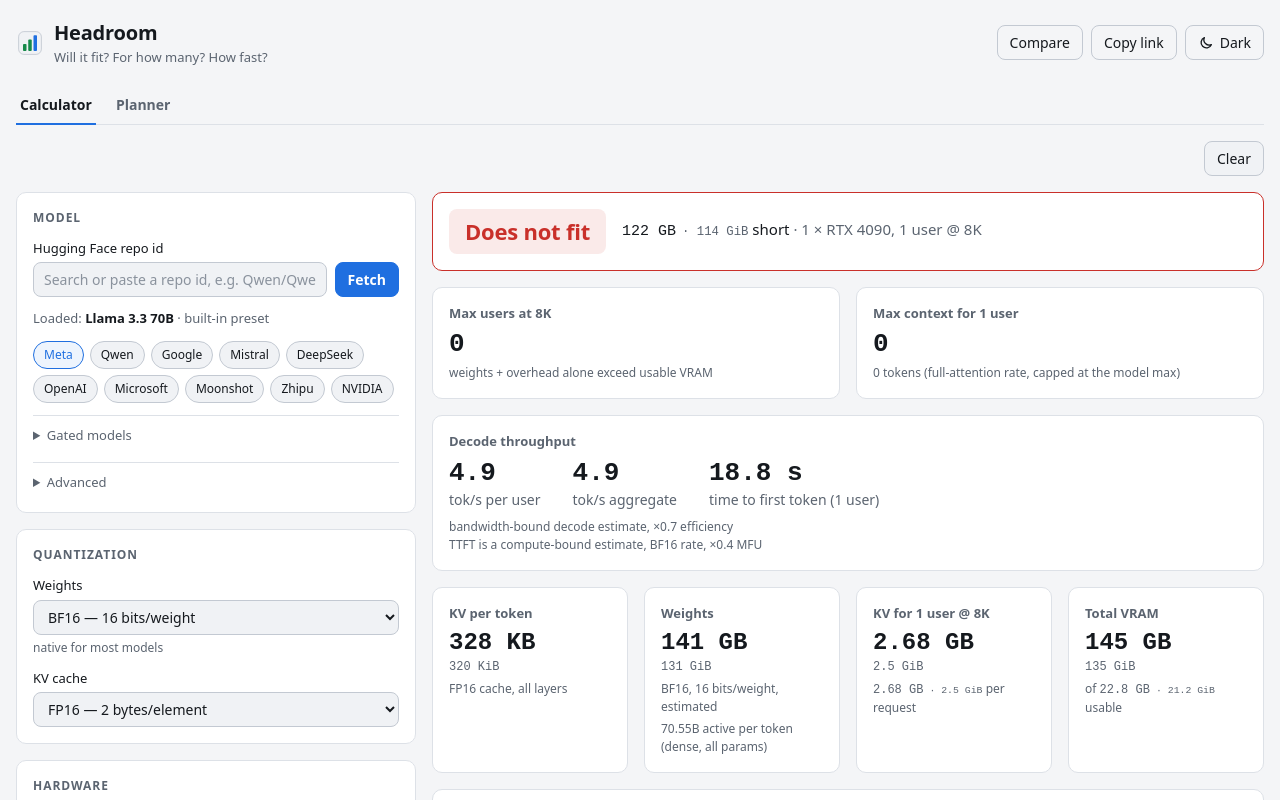
Test: App › fetches a model from Hugging Face (200)
In the dropdown labelled "Hugging Face repo id": (180, 280) [33,262,327,297], type "Qwen/Qwen2.5-7B-Instruct"
Then press Enter
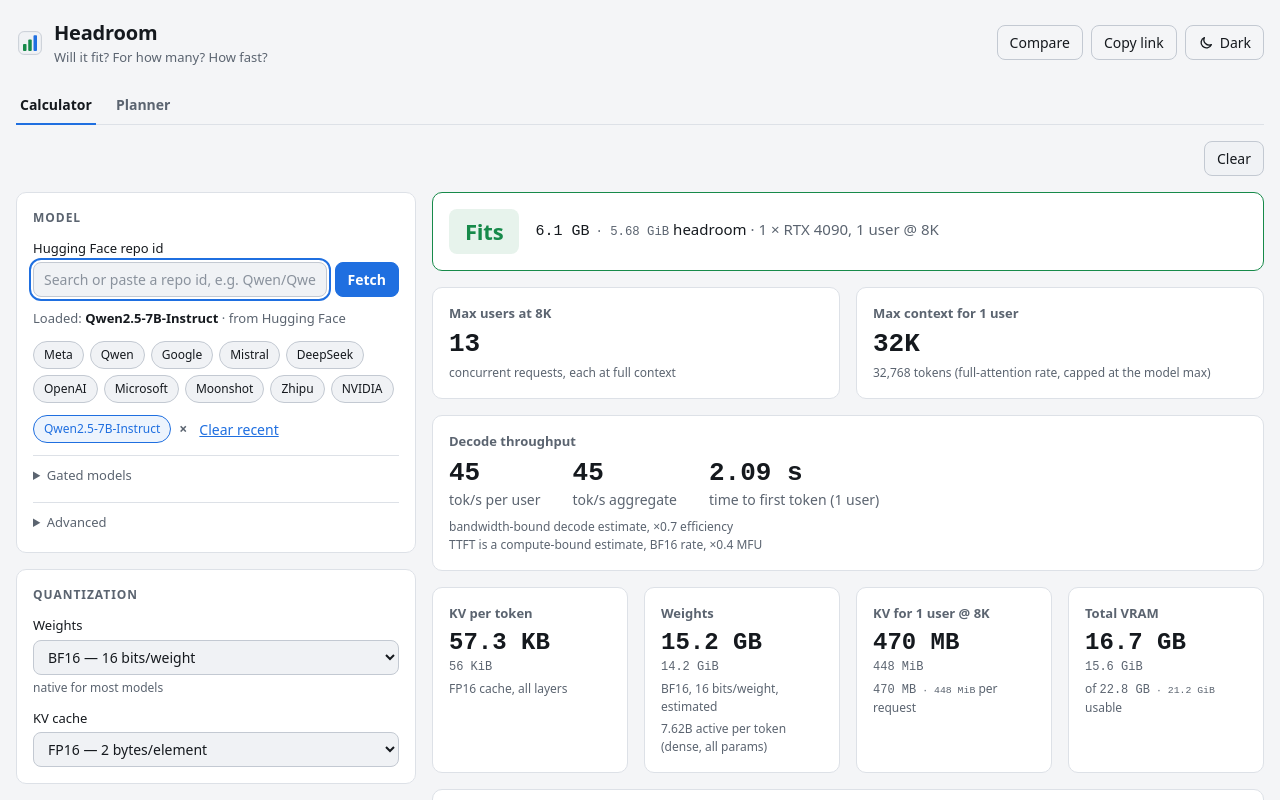
Expected: the text "· from Hugging Face" is shown, [222,309,346,327]
Expected: the text "57.3 KB" is shown, [449,629,550,658]
Expected: the text "56 KiB" is shown, [449,658,492,676]
